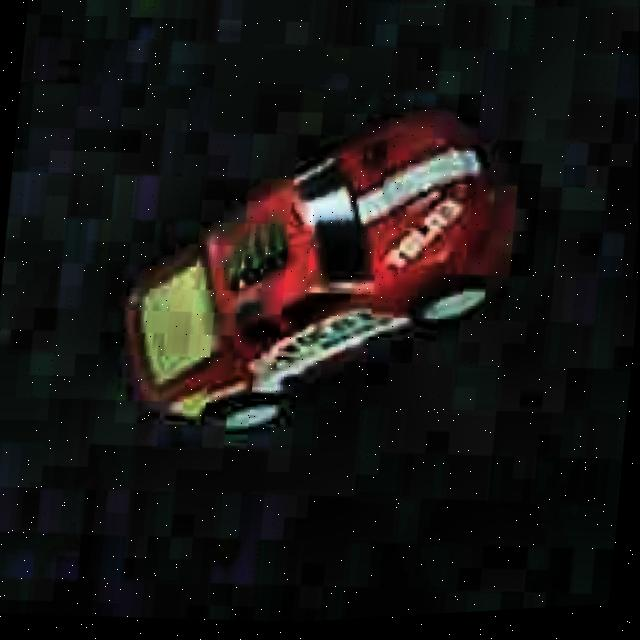car: (103, 80, 529, 473)
